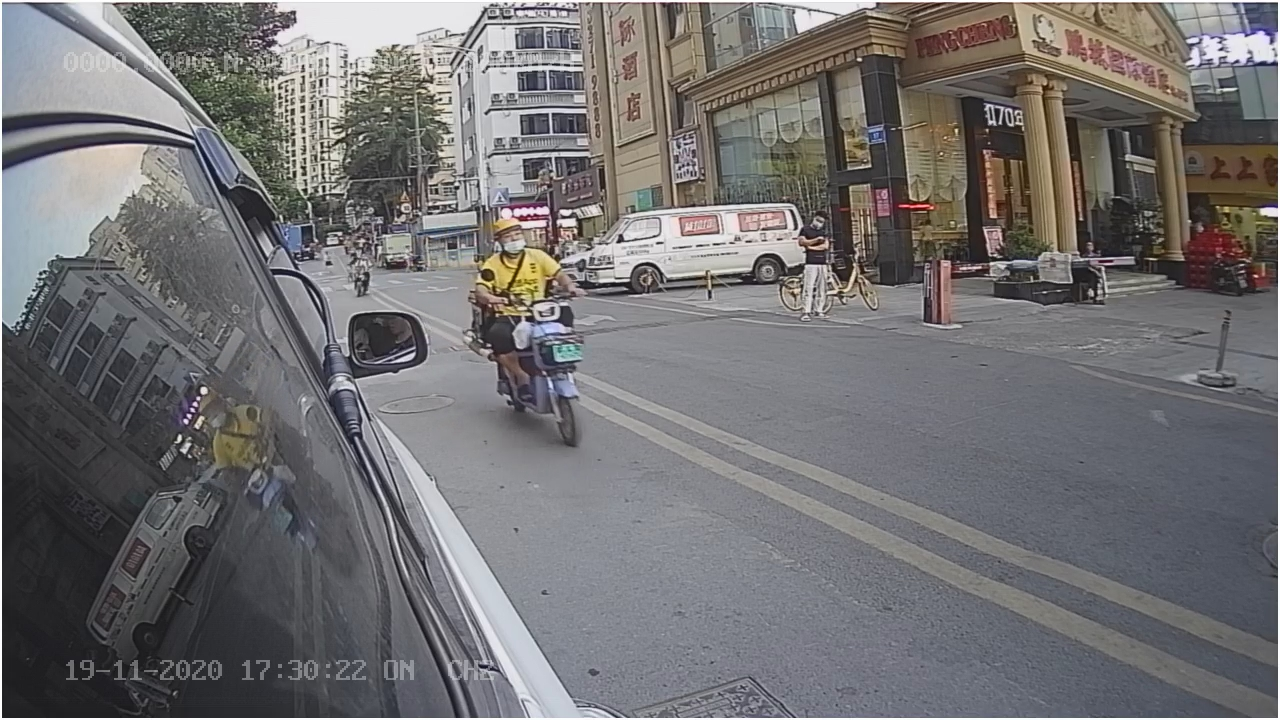person: (469, 209, 568, 297)
